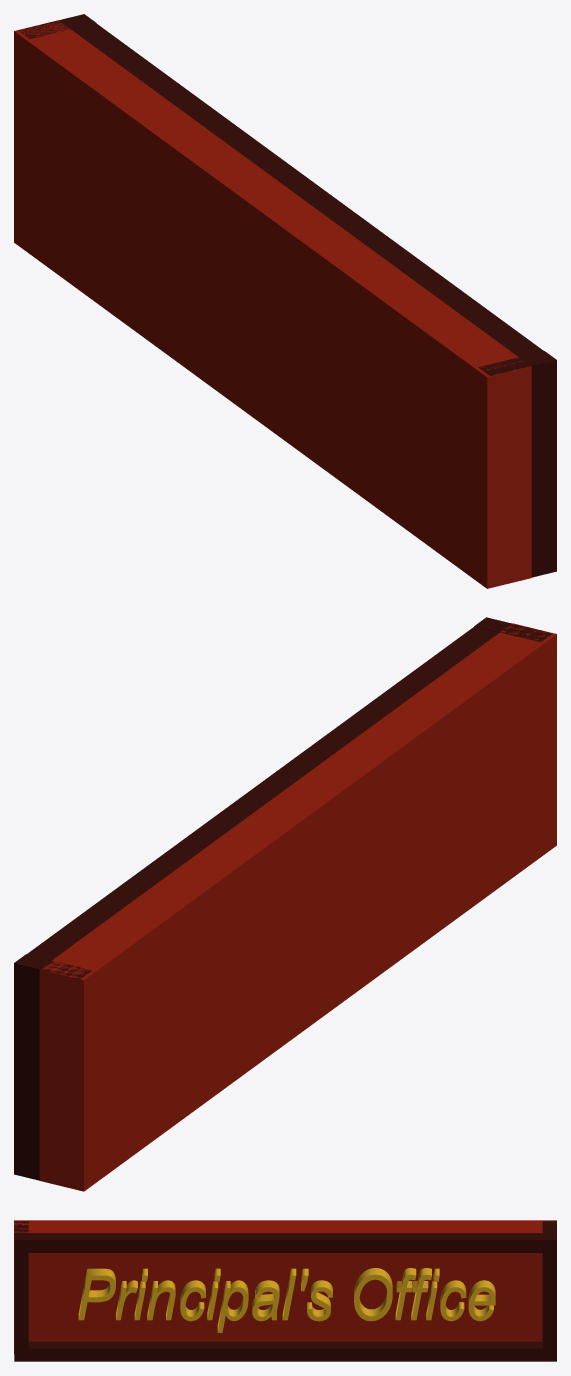
File: PrinciplesRoom 3.fbx
3 views of the same model, one above another, from view 1: azimuth 30°, elevation 25°; view 2: azimuth 150°, elevation 25°; view 3: azimuth 270°, elevation 25° (orthographic). The views are drawn at different scales.
Visible parts, largest first — view 1: Text; view 2: Text; view 3: Text.
Part boxes in pixels (<box>): Text: <box>14,14,556,588</box>; Text: <box>14,617,556,1191</box>; Text: <box>14,1220,556,1361</box>.
Size of the model in its own units: 69.49 by 200 by 811.
